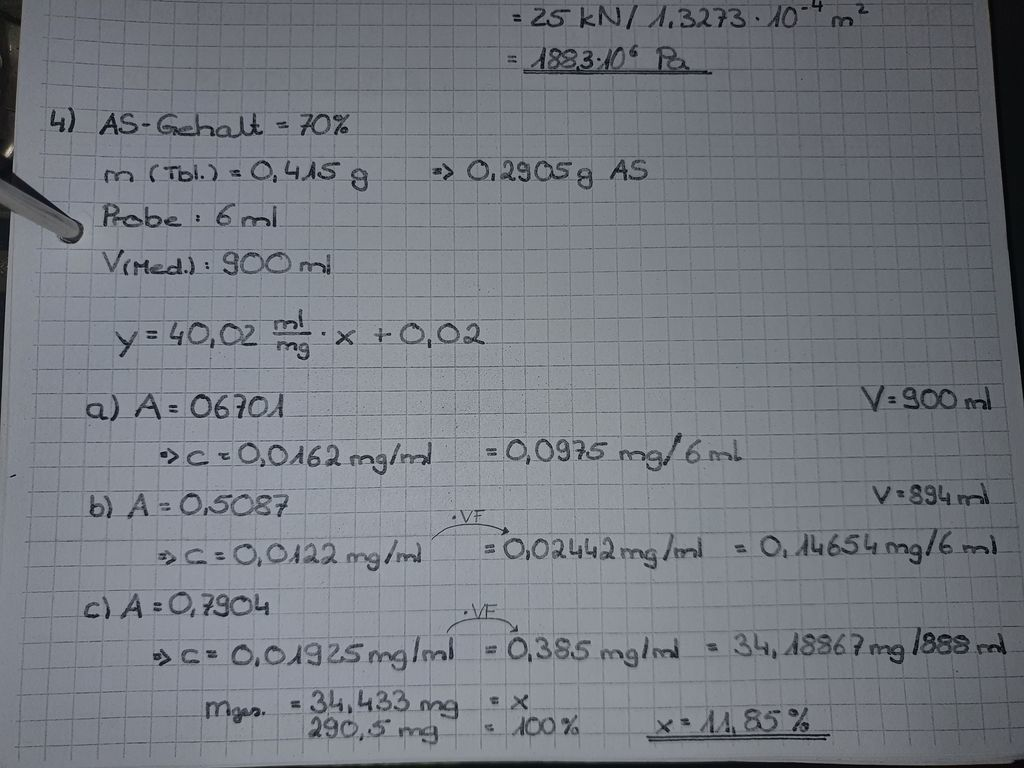equals: (478, 439, 501, 462), (727, 539, 753, 558), (202, 643, 224, 665), (502, 47, 523, 70), (271, 112, 292, 135), (226, 159, 246, 183), (163, 393, 182, 418), (212, 444, 235, 464), (153, 494, 174, 515), (143, 321, 163, 342), (479, 638, 500, 658), (700, 638, 723, 656), (882, 390, 902, 410), (147, 595, 167, 615), (675, 709, 696, 728), (508, 6, 527, 25), (481, 539, 499, 559), (211, 546, 230, 564), (893, 483, 909, 504), (286, 694, 304, 712), (483, 719, 501, 736), (488, 692, 505, 708)
equation: (174, 622, 1018, 673), (141, 525, 1010, 571), (159, 432, 757, 471), (100, 304, 502, 359), (96, 144, 377, 195), (494, 0, 877, 35), (86, 101, 364, 143), (296, 708, 589, 747), (494, 33, 719, 80), (191, 686, 535, 714), (128, 374, 302, 426), (850, 371, 1002, 427), (638, 698, 835, 738), (116, 482, 295, 524), (114, 584, 287, 625), (862, 469, 995, 512)
fraction: (728, 625, 1007, 667), (505, 428, 744, 471), (531, 0, 873, 29), (759, 527, 1000, 566)
seperator: (373, 321, 391, 346)
term: (228, 630, 459, 669), (230, 534, 427, 572), (505, 628, 682, 670), (169, 309, 313, 360), (506, 531, 709, 565), (238, 438, 442, 468), (93, 106, 266, 140), (527, 42, 708, 73), (304, 715, 442, 751), (309, 686, 462, 718), (248, 153, 372, 192), (185, 382, 292, 424), (101, 153, 220, 189), (177, 487, 292, 522), (699, 704, 822, 736), (391, 314, 492, 350), (900, 378, 995, 415), (167, 587, 278, 618), (910, 476, 992, 509), (507, 712, 584, 742), (200, 692, 268, 721), (296, 107, 355, 139), (329, 320, 367, 351), (132, 388, 165, 422), (110, 320, 138, 359), (856, 380, 886, 416), (122, 486, 150, 521), (120, 588, 145, 622), (181, 539, 209, 569), (865, 478, 891, 507), (649, 709, 675, 735), (186, 441, 209, 470), (178, 642, 203, 665), (510, 691, 531, 710)
